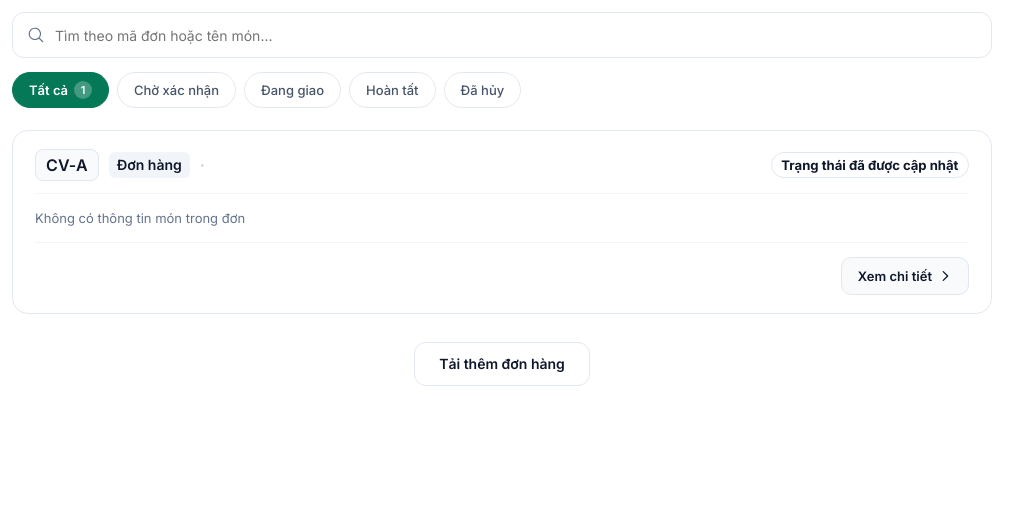
it: replaces loaded orders with login when the cursor expires authentication
The image size is (1009, 521).
What coordinates should you click on to do the following:
click the button "Tải thêm đơn hàng"
I would click on:
 (502, 364)
Its box is [414, 342, 590, 386].
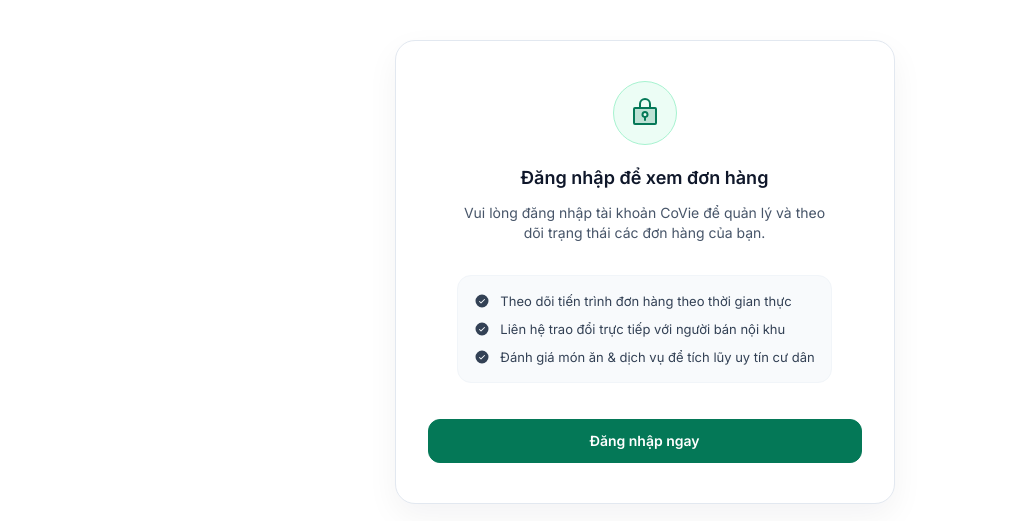
Result: the link "CV-A" is gone
